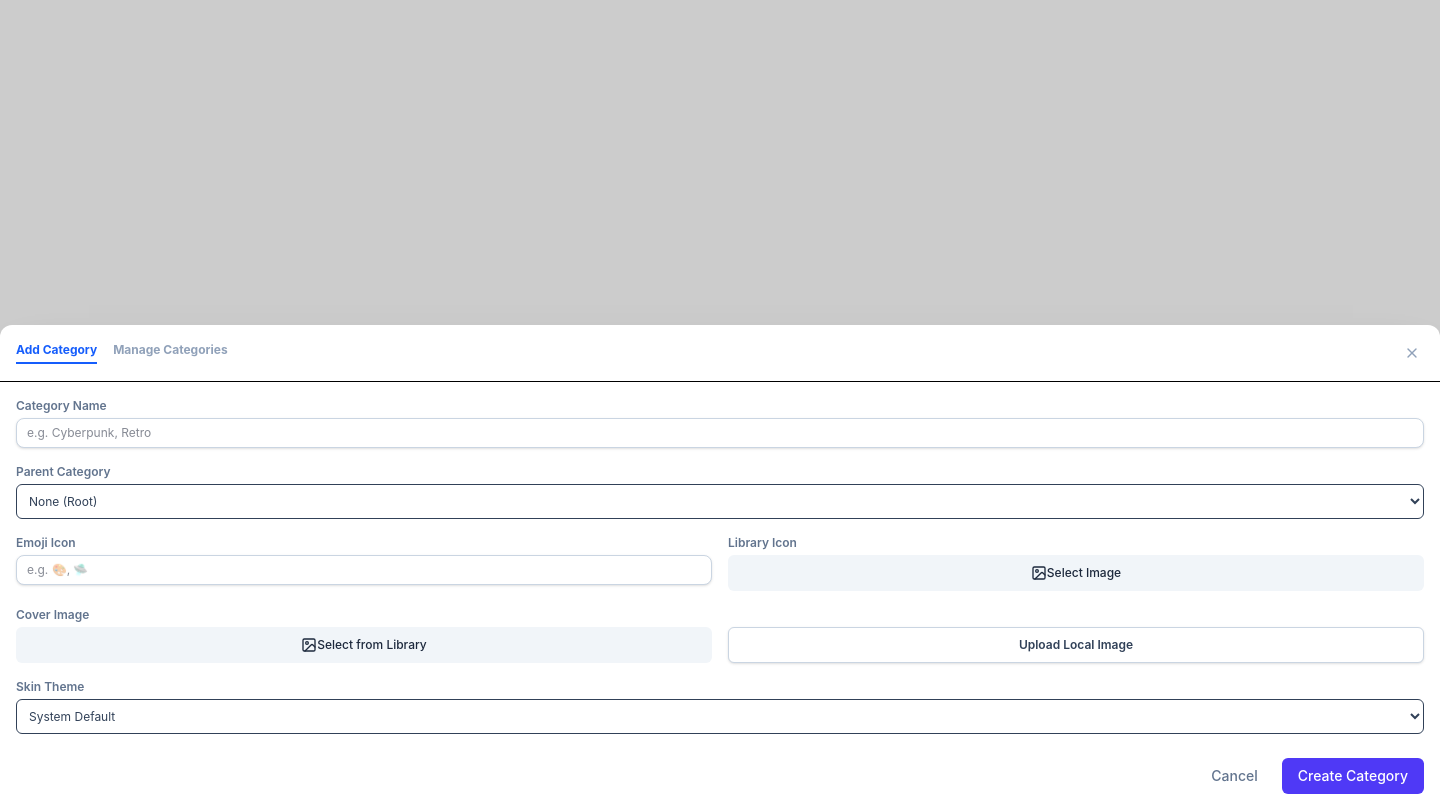
CategoryManagerModal › switches to Manage tab and shows custom and default categories
Click the button "Manage Categories" at {"x": 170, "y": 353}, box [113,342,228,364]
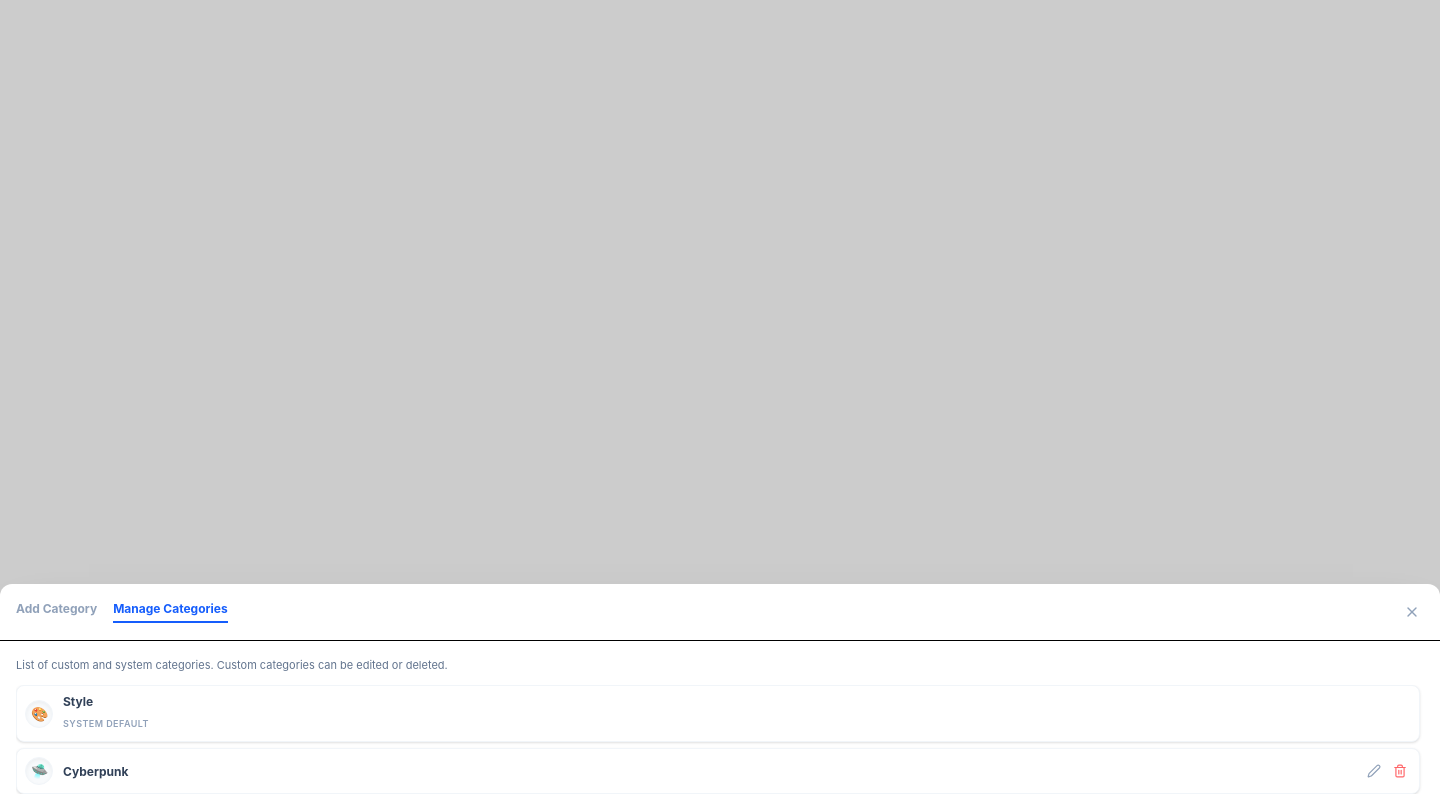
Check: the text "Style" is shown, box [63,694,93,709]
Check: the text "System Default" is shown, box [63,718,149,729]
Check: the text "Cyberpunk" is shown, box [63,764,128,778]
